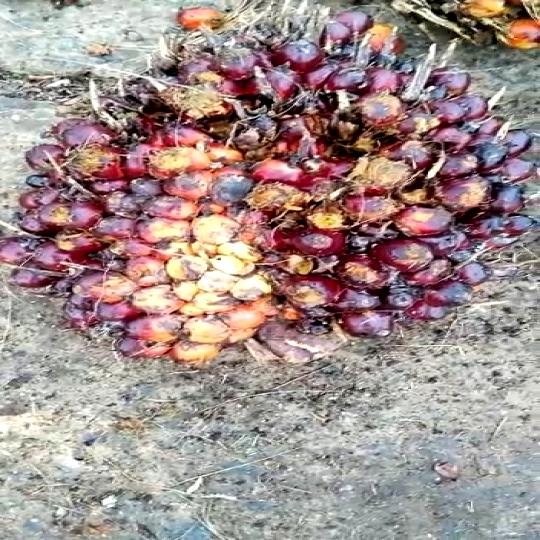masak: (0, 12, 540, 381)
